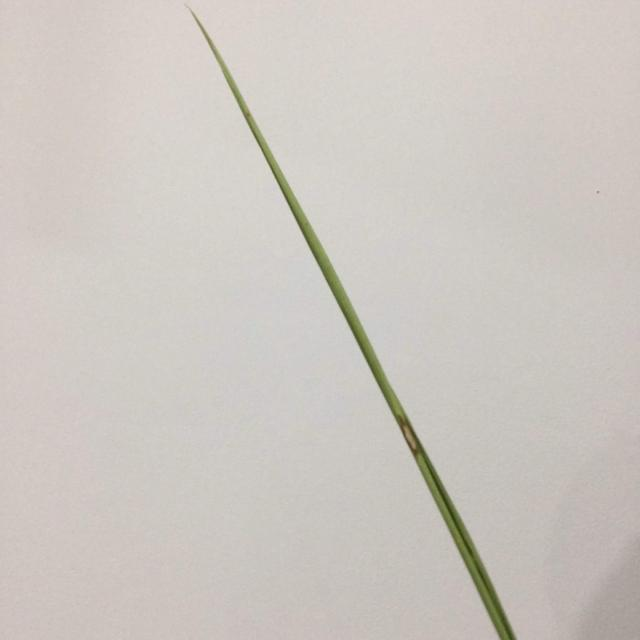Blast: (398, 419, 425, 452)
